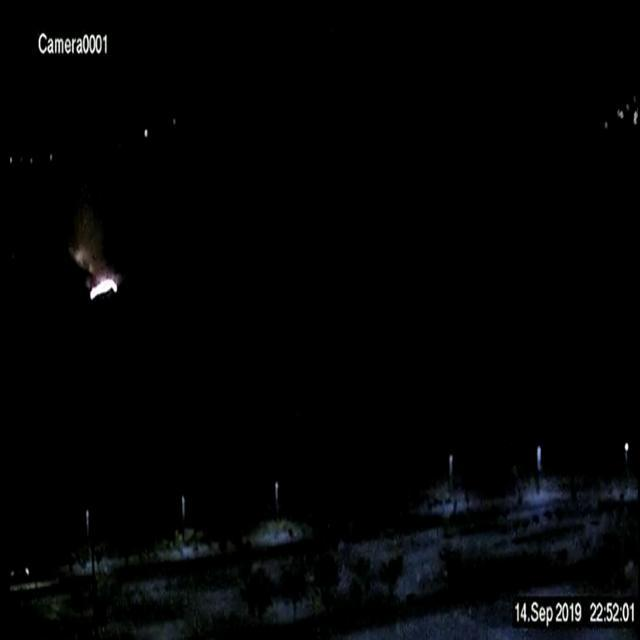Fire: (73, 237, 119, 297)
